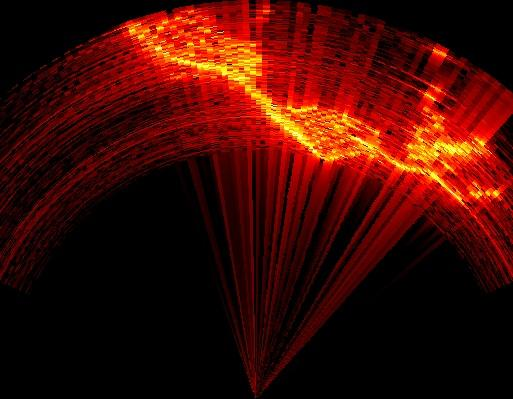shipwreck: (131, 7, 487, 205)
